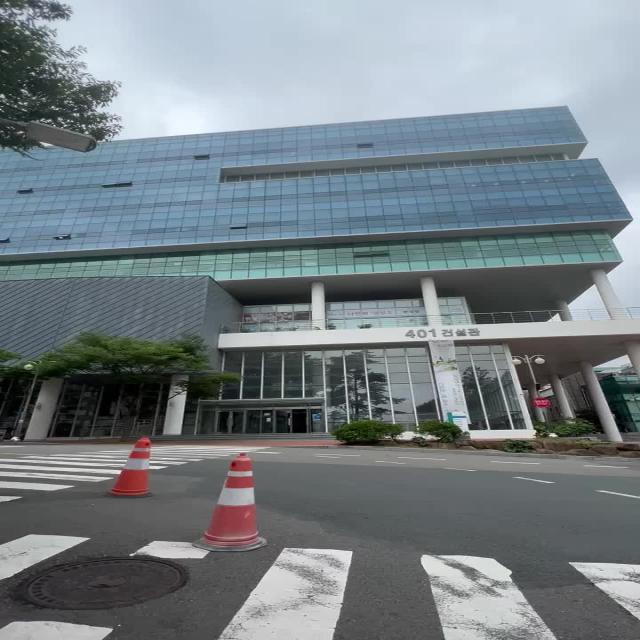building: (67, 121, 640, 446)
